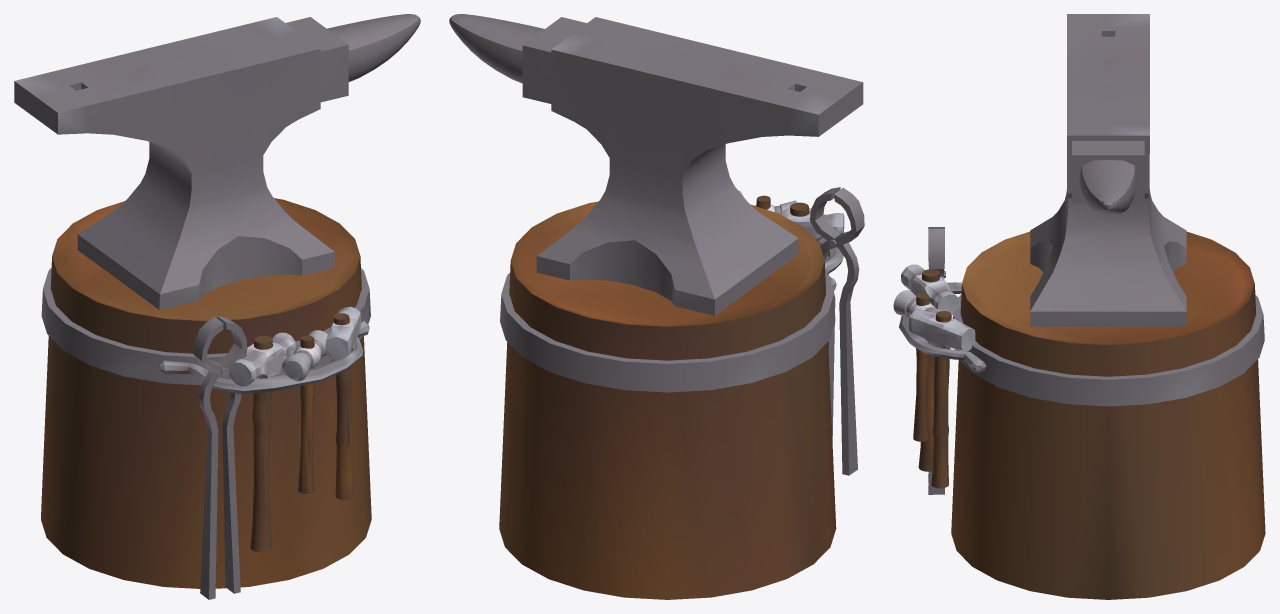
File: anvil_log.glb
3 renders of one model, left to right at view 1: azimuth 30°, elevation 25°; view 2: azimuth 150°, elevation 25°; view 3: azimuth 270°, elevation 25°, orthographic. The views are drawn at different scales.
Visible parts, largest first — view 1: anvil_log; view 2: anvil_log; view 3: anvil_log.
Boxes of the visible parts, left/top/right/bottom form: anvil_log: left=14, top=14, right=420, bottom=599; anvil_log: left=449, top=14, right=864, bottom=599; anvil_log: left=893, top=14, right=1265, bottom=599.
Bounding box in the file's own units: 0.9293 × 1.07 × 0.8214.
